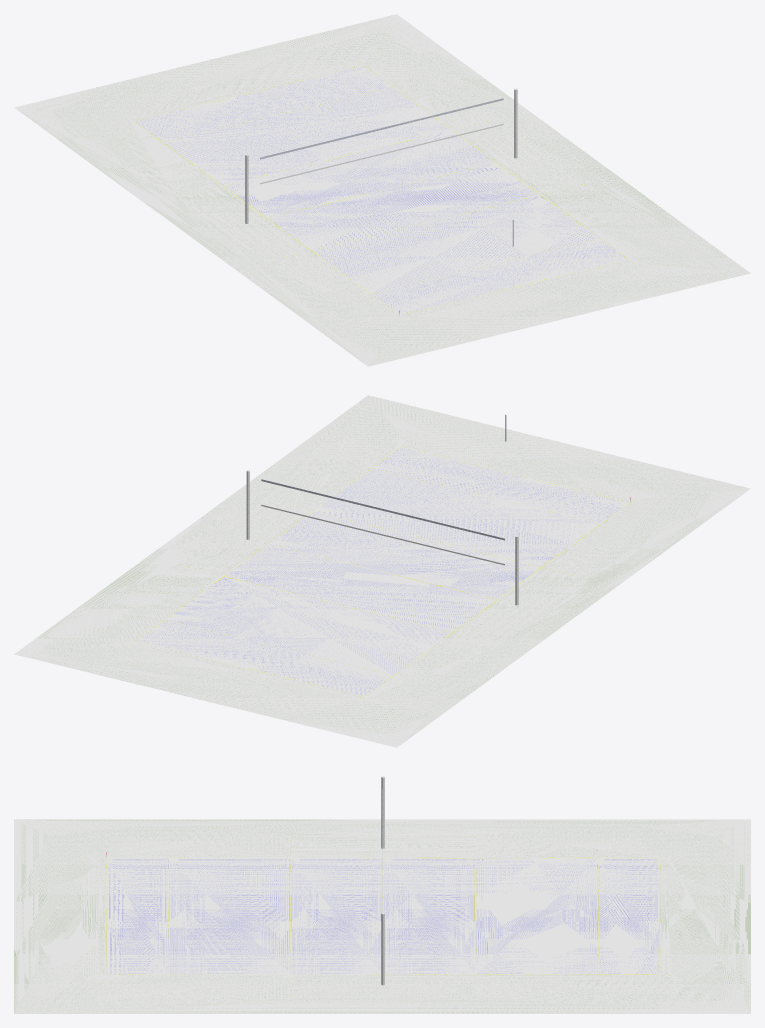
3 views of the same model, one above another, from view 1: azimuth 30°, elevation 25°; view 2: azimuth 150°, elevation 25°; view 3: azimuth 270°, elevation 25° (orthographic). The views are drawn at different scales.
Parts seen in each view (by area): view 1: SketchUp.007, SketchUp.004, SketchUp.001, SketchUp.003, SketchUp.002, SketchUp, SketchUp.006, SketchUp.005; view 2: SketchUp.007, SketchUp.001, SketchUp.004, SketchUp.002, SketchUp.003, SketchUp.006, SketchUp, SketchUp.005; view 3: SketchUp.007, SketchUp.004, SketchUp.001, SketchUp.003, SketchUp.002, SketchUp, SketchUp.006, SketchUp.005.
Boxes of the visible parts, x1=… form: SketchUp.007: x1=14, y1=14, x2=750, y2=366; SketchUp.004: x1=313, y1=195, x2=598, y2=293; SketchUp.001: x1=164, y1=87, x2=450, y2=185; SketchUp.003: x1=268, y1=163, x2=538, y2=250; SketchUp.002: x1=224, y1=130, x2=494, y2=217; SketchUp: x1=135, y1=66, x2=391, y2=141; SketchUp.006: x1=371, y1=238, x2=627, y2=314; SketchUp.005: x1=133, y1=65, x2=629, y2=315; SketchUp.007: x1=14, y1=395, x2=750, y2=747; SketchUp.001: x1=166, y1=577, x2=451, y2=675; SketchUp.004: x1=314, y1=468, x2=599, y2=566; SketchUp.002: x1=225, y1=544, x2=495, y2=631; SketchUp.003: x1=269, y1=512, x2=540, y2=599; SketchUp.006: x1=373, y1=447, x2=628, y2=523; SketchUp: x1=137, y1=620, x2=392, y2=696; SketchUp.005: x1=135, y1=446, x2=630, y2=697; SketchUp.007: x1=14, y1=819, x2=750, y2=1013; SketchUp.004: x1=168, y1=858, x2=290, y2=974; SketchUp.001: x1=476, y1=858, x2=598, y2=974; SketchUp.003: x1=291, y1=858, x2=382, y2=974; SketchUp.002: x1=384, y1=858, x2=474, y2=974; SketchUp: x1=599, y1=858, x2=658, y2=974; SketchUp.006: x1=108, y1=858, x2=167, y2=974; SketchUp.005: x1=106, y1=857, x2=660, y2=974.
Size of the model in its own units: 14.95 by 23.95 by 2.55.
